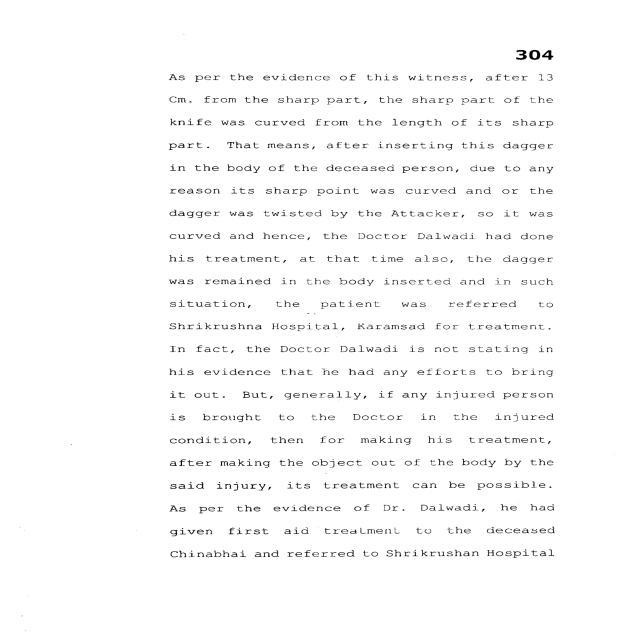page-number: (428, 2, 637, 68)
